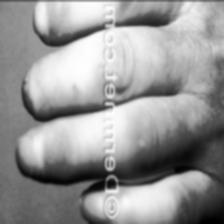Unclassified: (33, 0, 62, 30), (131, 122, 151, 164), (40, 78, 64, 110)
